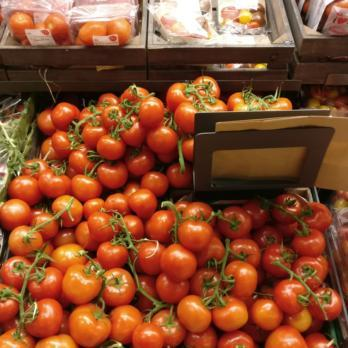Tomato: (27, 93, 197, 348), (204, 189, 336, 348)
